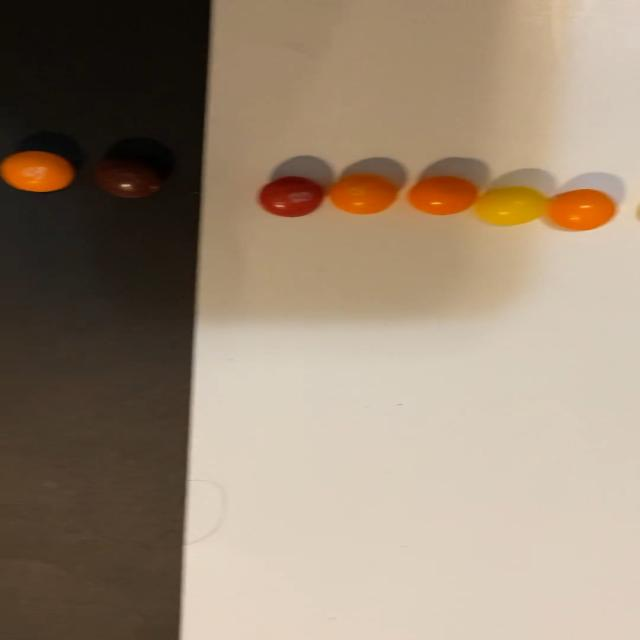smartie: (1, 150, 73, 192), (475, 186, 547, 225), (328, 174, 398, 214), (548, 189, 616, 230), (94, 158, 161, 198), (408, 176, 477, 214), (258, 176, 323, 216)
